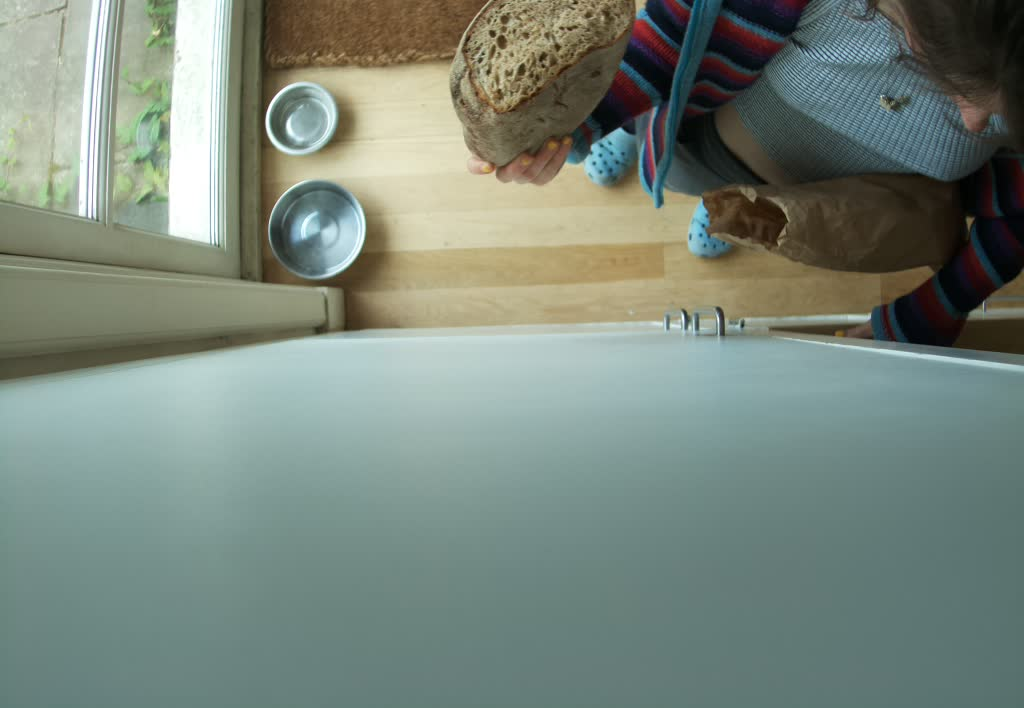bread: (449, 1, 636, 166)
